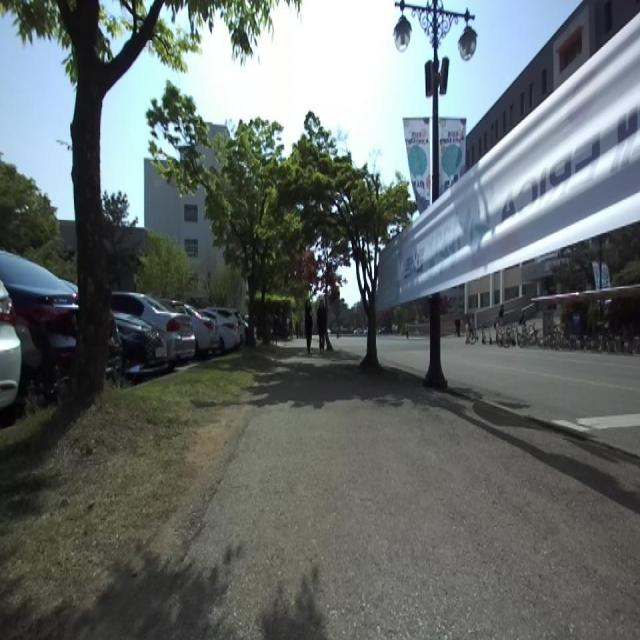sidewalk: (164, 349, 640, 639)
